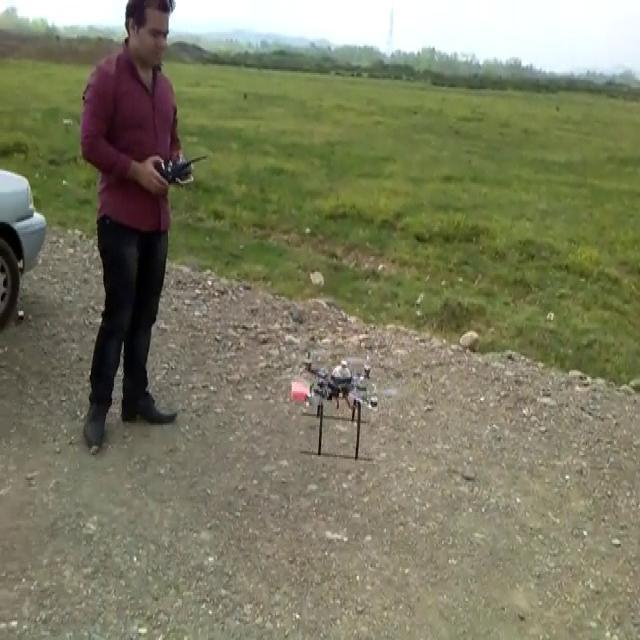drone: (288, 352, 384, 460)
